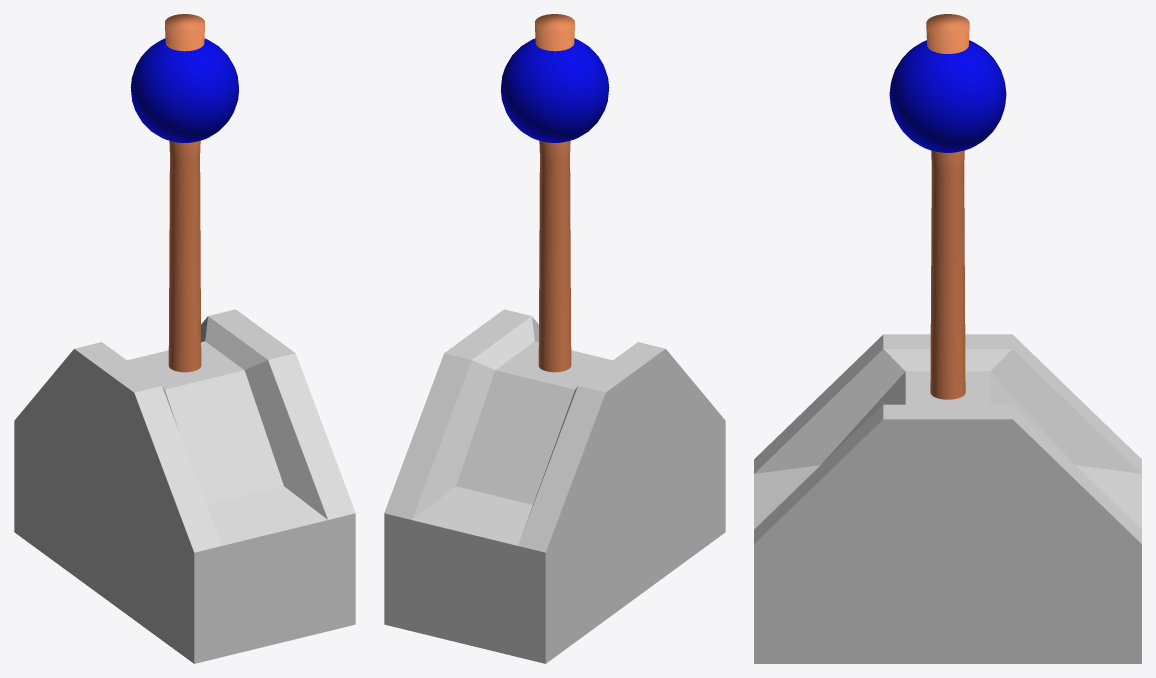
The model's file is lever_merged.fbx.
3 renders of one model, left to right at view 1: azimuth 30°, elevation 25°; view 2: azimuth 150°, elevation 25°; view 3: azimuth 270°, elevation 25°, orthographic. The views are drawn at different scales.
Visible parts, largest first — view 1: lever_merged; view 2: lever_merged; view 3: lever_merged.
Boxes of the visible parts, <box> form: lever_merged: <box>14,14,355,663</box>; lever_merged: <box>384,14,725,663</box>; lever_merged: <box>754,14,1141,663</box>.
Size of the model in its own units: 104 by 341 by 200.
